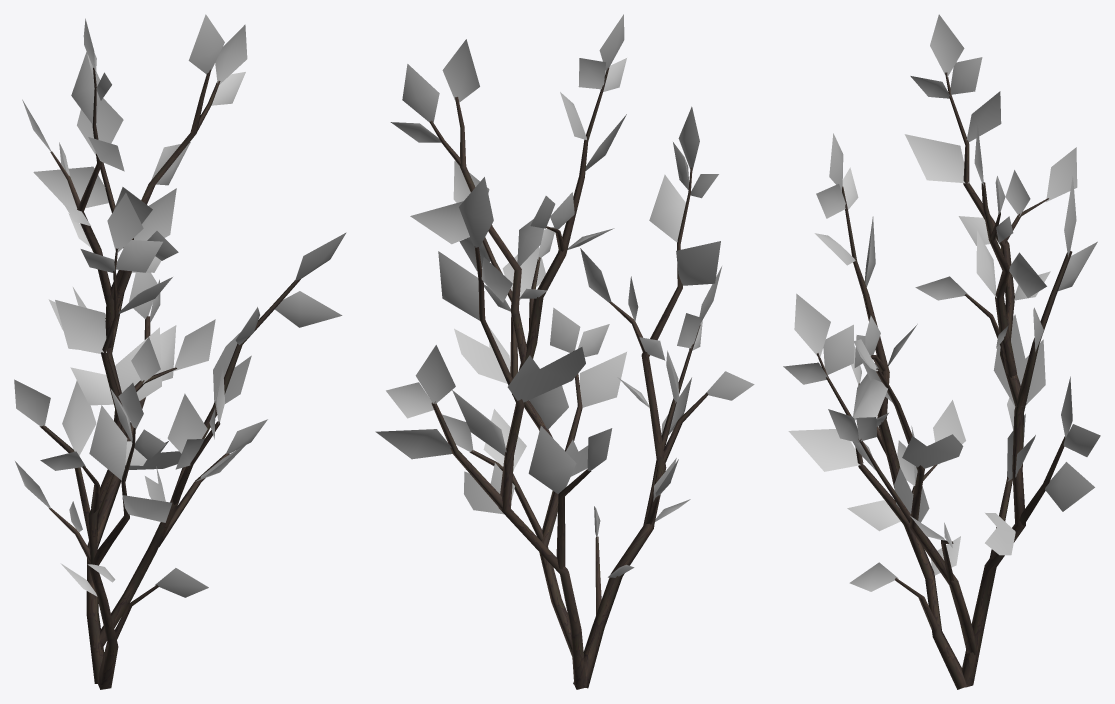
The model's file is SM_FW01_TreeSapling_04.fbx.
3 views of the same model, side by side, from view 1: azimuth 30°, elevation 25°; view 2: azimuth 150°, elevation 25°; view 3: azimuth 270°, elevation 25° (orthographic). The views are drawn at different scales.
Parts seen in each view (by area): view 1: SM_FW01_TreeSapling_04_LOD0; view 2: SM_FW01_TreeSapling_04_LOD0; view 3: SM_FW01_TreeSapling_04_LOD0.
Boxes of the visible parts, box(x1,y1,x2,y2) form: SM_FW01_TreeSapling_04_LOD0: box(14, 14, 346, 689); SM_FW01_TreeSapling_04_LOD0: box(375, 14, 754, 689); SM_FW01_TreeSapling_04_LOD0: box(783, 14, 1100, 689).
Size of what is drawn, in the model's own units: 0.5688 by 1.22 by 0.5313.
